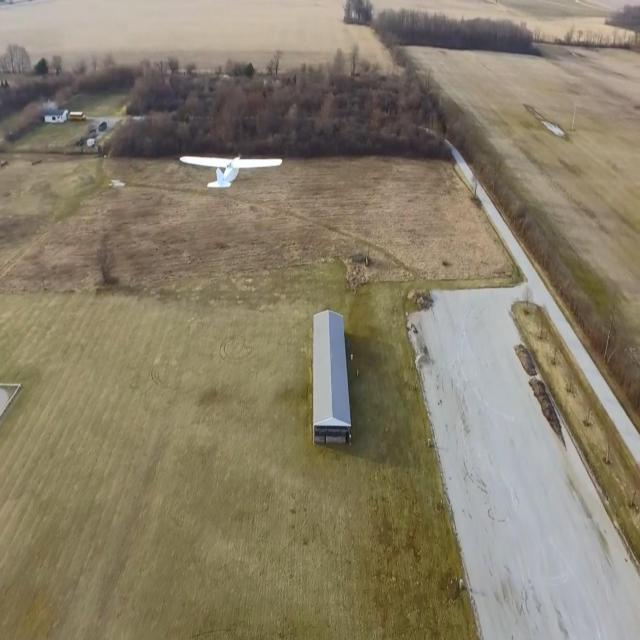UAV: (124, 132, 282, 212)
